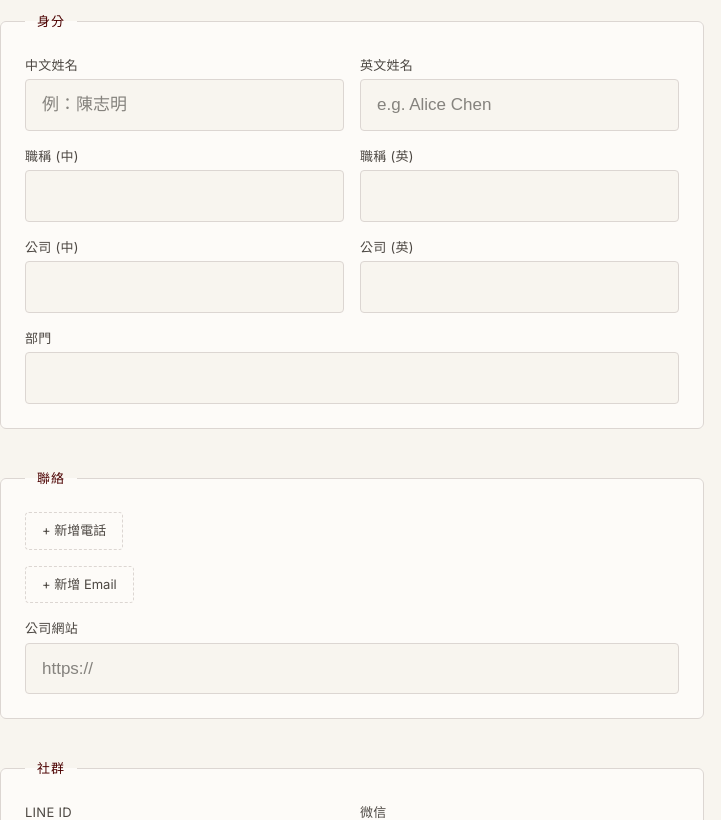
CardForm — create mode › appends email rows when '+ 新增 Email' is clicked
The image size is (721, 820).
Click the button "+ 新增 Email".
click(79, 584)  # box 25,566 -> 134,603
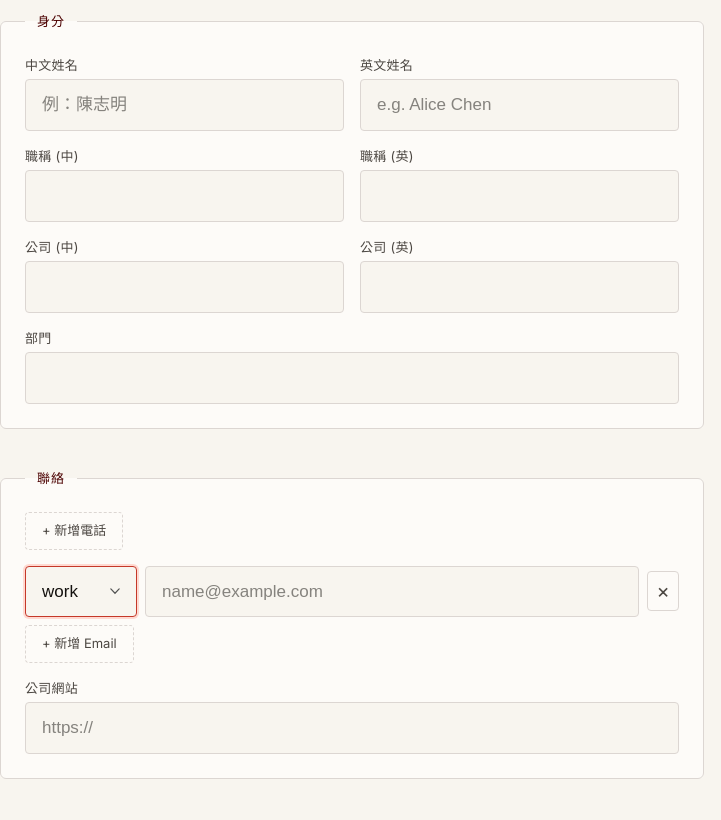
Expected: the field with placeholder "name@example.com" is shown, 145,566 -> 639,617
